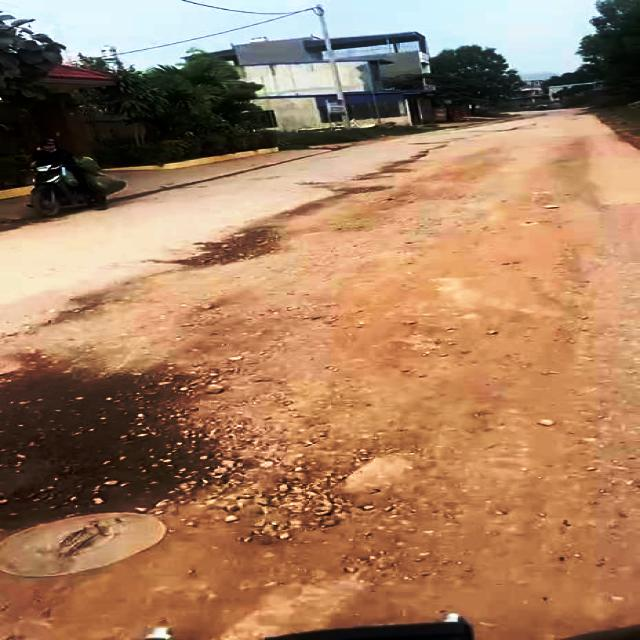pothole: (0, 380, 171, 533)
